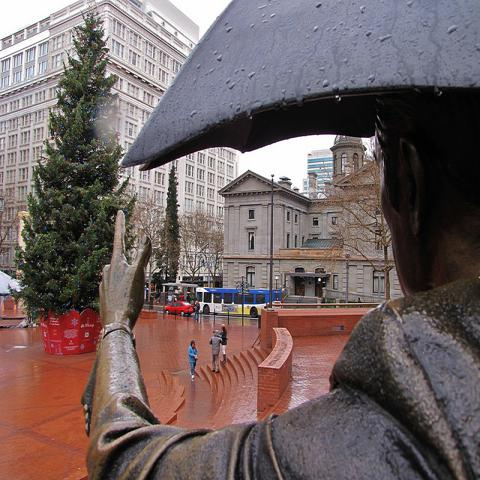bus: (196, 288, 281, 316)
car: (164, 302, 193, 316)
